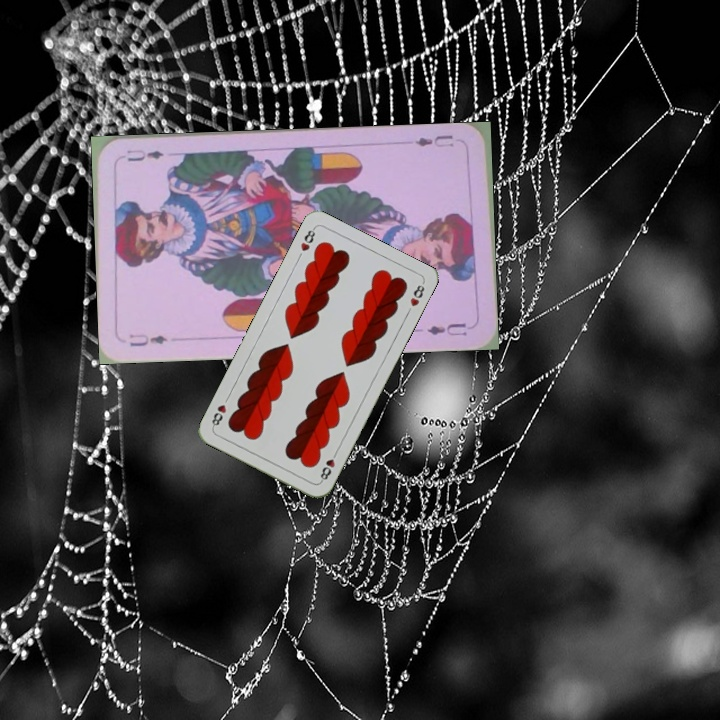EU: (411, 131, 465, 150), (125, 329, 170, 349)
H8: (316, 447, 340, 485), (296, 223, 318, 254)
